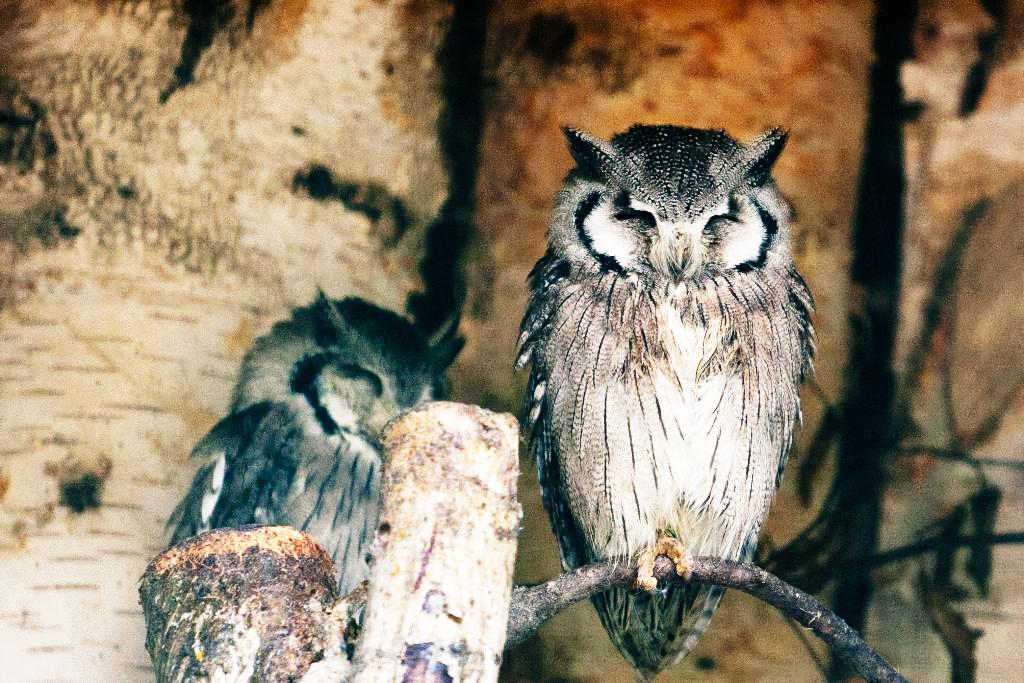Owl: (507, 120, 824, 682), (156, 289, 457, 629)
